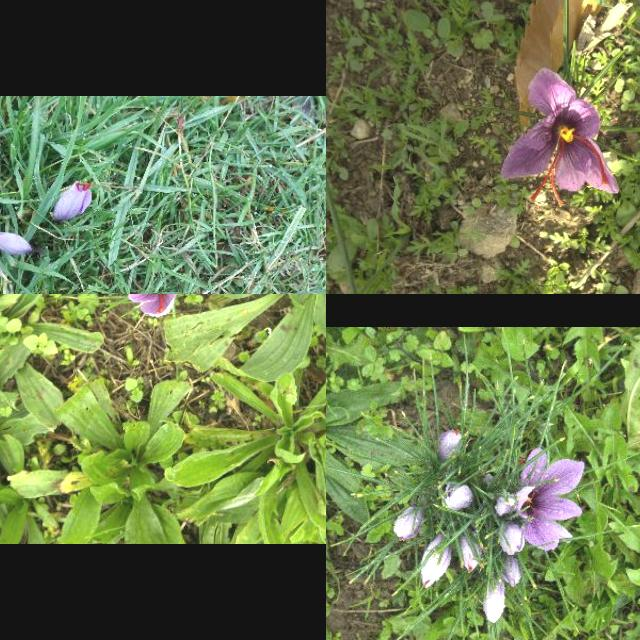flower: (500, 69, 620, 207), (49, 180, 93, 222), (420, 536, 452, 590), (110, 294, 185, 317), (482, 577, 506, 625), (392, 506, 423, 542), (438, 482, 474, 512), (458, 532, 482, 574), (0, 230, 35, 256), (438, 428, 462, 464), (498, 556, 522, 588)
overlap: (496, 446, 586, 556)
